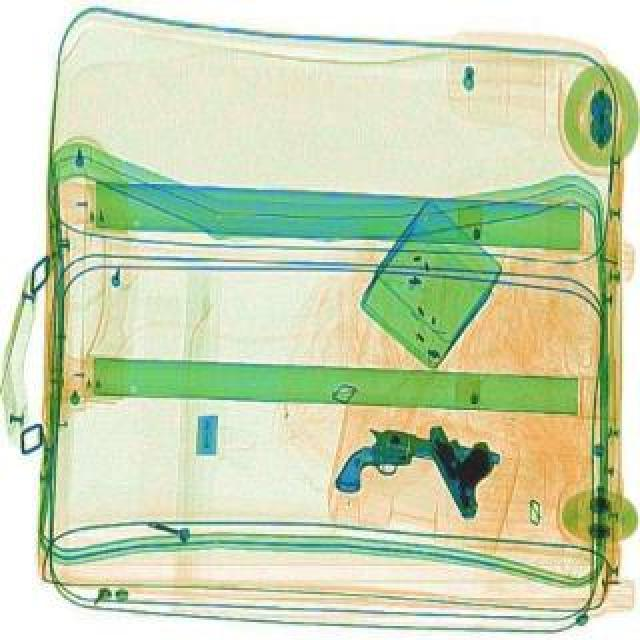gun: (332, 414, 516, 528), (402, 406, 522, 518)
